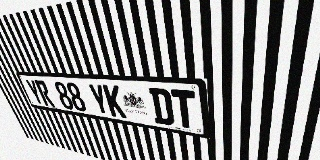8: (65, 82, 87, 112), (53, 81, 75, 110)
D: (149, 88, 175, 126)
K: (102, 84, 127, 118)
R: (34, 80, 55, 107)
T: (171, 89, 197, 130)
Y: (87, 83, 111, 116), (24, 79, 45, 105)
